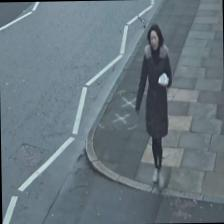person: (133, 24, 173, 188)
